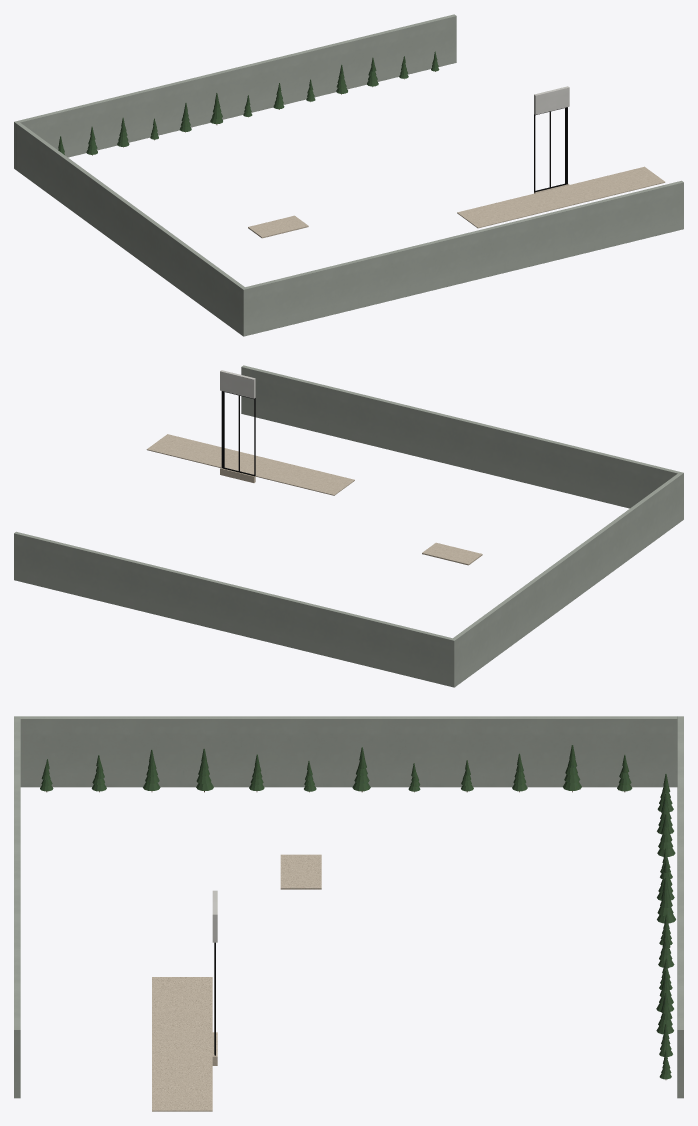
File: casa_exterior.glb
The picture shows the model from 3 angles, top to bottom: view 1: azimuth 30°, elevation 25°; view 2: azimuth 150°, elevation 25°; view 3: azimuth 270°, elevation 25°; orthographic projection. The views are drawn at different scales.
Visible parts, largest first — view 1: ZONA_exterior; view 2: ZONA_exterior; view 3: ZONA_exterior.
Boxes of the visible parts, left/top/right/bottom form: ZONA_exterior: left=14, top=14, right=683, bottom=336; ZONA_exterior: left=14, top=365, right=683, bottom=687; ZONA_exterior: left=14, top=716, right=683, bottom=1111.
Bounding box in the file's own units: 24.07 × 5.08 × 20.4.
1 material, 1 textured.
